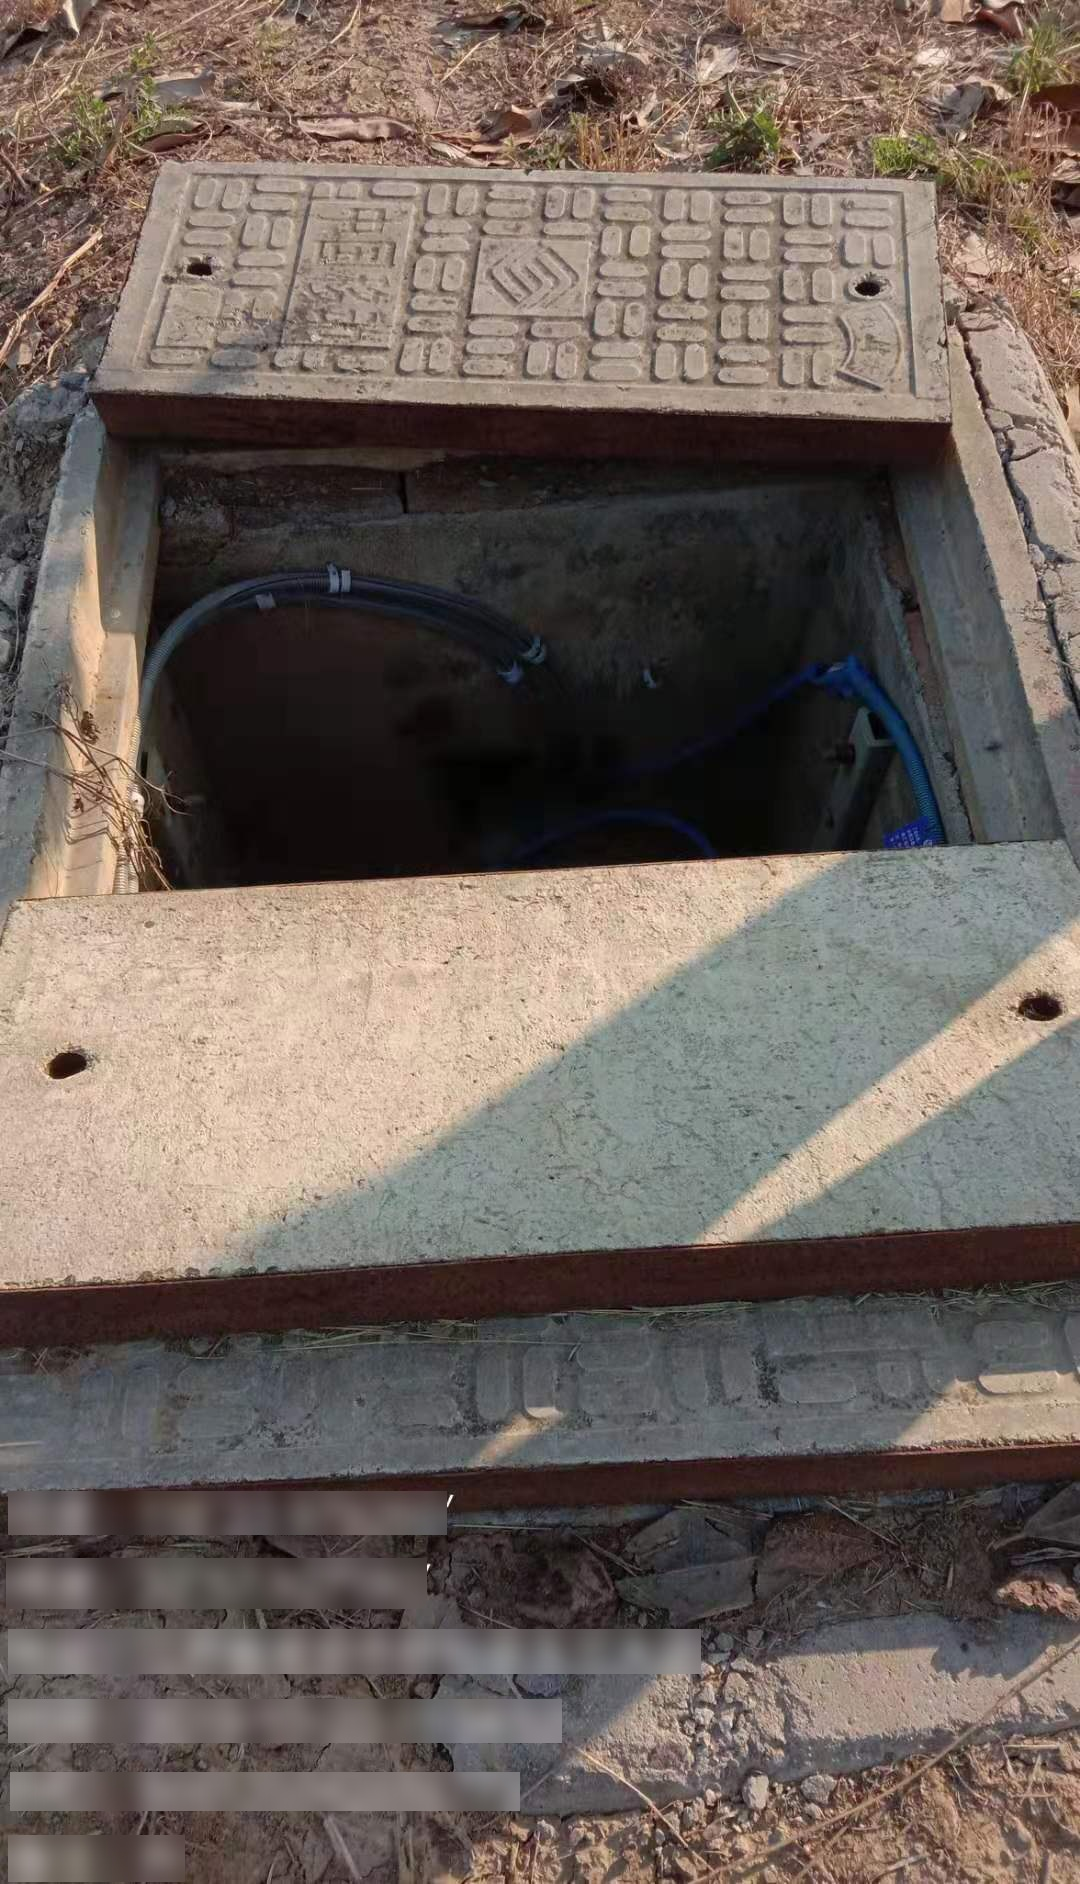uncovered: (4, 146, 1080, 1509)
